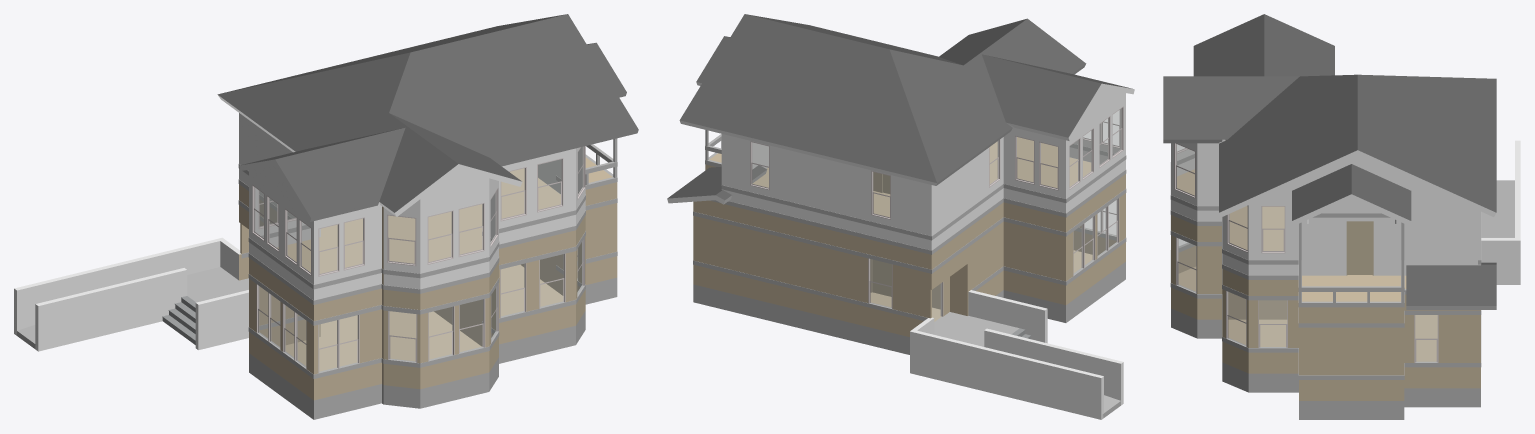
File: warakuan.dae
3 views of the same model, side by side, from view 1: azimuth 30°, elevation 25°; view 2: azimuth 150°, elevation 25°; view 3: azimuth 270°, elevation 25° (orthographic). The views are drawn at different scales.
Visible parts, largest first — view 1: Brep (×15), Instance-Def-InstanceDefinition_93, Instance-Def-InstanceDefinition_110, Instance-Def-InstanceDefinition_70 (×4), Instance-Def-InstanceDefinition_146, Instance-Def-InstanceDefinition_79, Instance-Def-InstanceDefinition_82, Instance-Def-InstanceDefinition_71, Instance-Def-InstanceDefinition_75 (×3), Instance-Def-InstanceDefinition_148, Instance-Def-InstanceDefinition_92, Instance-Def-InstanceDefinition_76 (×2) (+22 smaller); view 2: Brep (×16), Instance-Def-InstanceDefinition_91, Instance-Def-InstanceDefinition_113, Instance-Def-InstanceDefinition_115, Instance-Def-InstanceDefinition_99, Instance-Def-InstanceDefinition_112, Instance-Def-InstanceDefinition_83 (×5), Instance-Def-InstanceDefinition_110, Instance-Def-InstanceDefinition_82, Instance-Def-InstanceDefinition_92, Instance-Def-InstanceDefinition_122, Instance-Def-InstanceDefinition_64 (+16 smaller); view 3: Brep (×10), Instance-Def-InstanceDefinition_91, Instance-Def-InstanceDefinition_49, Instance-Def-InstanceDefinition_92, Instance-Def-InstanceDefinition_152, Instance-Def-InstanceDefinition_84, Instance-Def-InstanceDefinition_122, Instance-Def-InstanceDefinition_93, Instance-Def-InstanceDefinition_147, Instance-Def-InstanceDefinition_70 (×2), Instance-Def-InstanceDefinition_47, Instance-Def-InstanceDefinition_75 (×2) (+27 smaller).
Part boxes in pixels (x1=…): Brep (×15): x1=17, y1=14, x2=638, y2=371; Instance-Def-InstanceDefinition_93: x1=239, y1=127, x2=405, y2=221; Instance-Def-InstanceDefinition_110: x1=35, y1=268, x2=187, y2=351; Instance-Def-InstanceDefinition_70 (×4): x1=388, y1=254, x2=564, y2=361; Instance-Def-InstanceDefinition_146: x1=499, y1=229, x2=576, y2=344; Instance-Def-InstanceDefinition_79: x1=316, y1=288, x2=381, y2=399; Instance-Def-InstanceDefinition_82: x1=250, y1=259, x2=316, y2=400; Instance-Def-InstanceDefinition_71: x1=424, y1=276, x2=490, y2=388; Instance-Def-InstanceDefinition_75 (×3): x1=459, y1=159, x2=562, y2=256; Instance-Def-InstanceDefinition_148: x1=577, y1=182, x2=617, y2=284; Instance-Def-InstanceDefinition_92: x1=379, y1=113, x2=522, y2=216; Instance-Def-InstanceDefinition_76 (×2): x1=387, y1=211, x2=452, y2=265; Brep (×16): x1=695, y1=14, x2=1125, y2=346; Instance-Def-InstanceDefinition_91: x1=679, y1=14, x2=1012, y2=185; Instance-Def-InstanceDefinition_113: x1=695, y1=216, x2=932, y2=336; Instance-Def-InstanceDefinition_115: x1=910, y1=329, x2=1103, y2=419; Instance-Def-InstanceDefinition_99: x1=1003, y1=202, x2=1067, y2=305; Instance-Def-InstanceDefinition_112: x1=695, y1=285, x2=909, y2=354; Instance-Def-InstanceDefinition_83 (×5): x1=872, y1=107, x2=1123, y2=218; Instance-Def-InstanceDefinition_110: x1=984, y1=328, x2=1123, y2=405; Instance-Def-InstanceDefinition_82: x1=1067, y1=174, x2=1125, y2=303; Instance-Def-InstanceDefinition_92: x1=939, y1=19, x2=1085, y2=74; Instance-Def-InstanceDefinition_122: x1=667, y1=166, x2=721, y2=203; Instance-Def-InstanceDefinition_64: x1=693, y1=260, x2=927, y2=320; Brep (×10): x1=1173, y1=14, x2=1514, y2=361; Instance-Def-InstanceDefinition_91: x1=1219, y1=74, x2=1496, y2=217; Instance-Def-InstanceDefinition_49: x1=1301, y1=307, x2=1404, y2=400; Instance-Def-InstanceDefinition_92: x1=1163, y1=76, x2=1299, y2=139; Instance-Def-InstanceDefinition_152: x1=1404, y1=294, x2=1480, y2=388; Instance-Def-InstanceDefinition_84: x1=1292, y1=164, x2=1411, y2=225; Instance-Def-InstanceDefinition_122: x1=1406, y1=264, x2=1496, y2=309; Instance-Def-InstanceDefinition_93: x1=1193, y1=14, x2=1264, y2=76; Instance-Def-InstanceDefinition_147: x1=1252, y1=280, x2=1295, y2=373; Instance-Def-InstanceDefinition_70 (×2): x1=1226, y1=291, x2=1287, y2=347; Instance-Def-InstanceDefinition_47: x1=1301, y1=401, x2=1404, y2=419; Instance-Def-InstanceDefinition_75 (×2): x1=1175, y1=143, x2=1247, y2=251.
Bounding box in the file's own units: 20006 × 12710 × 10236.
